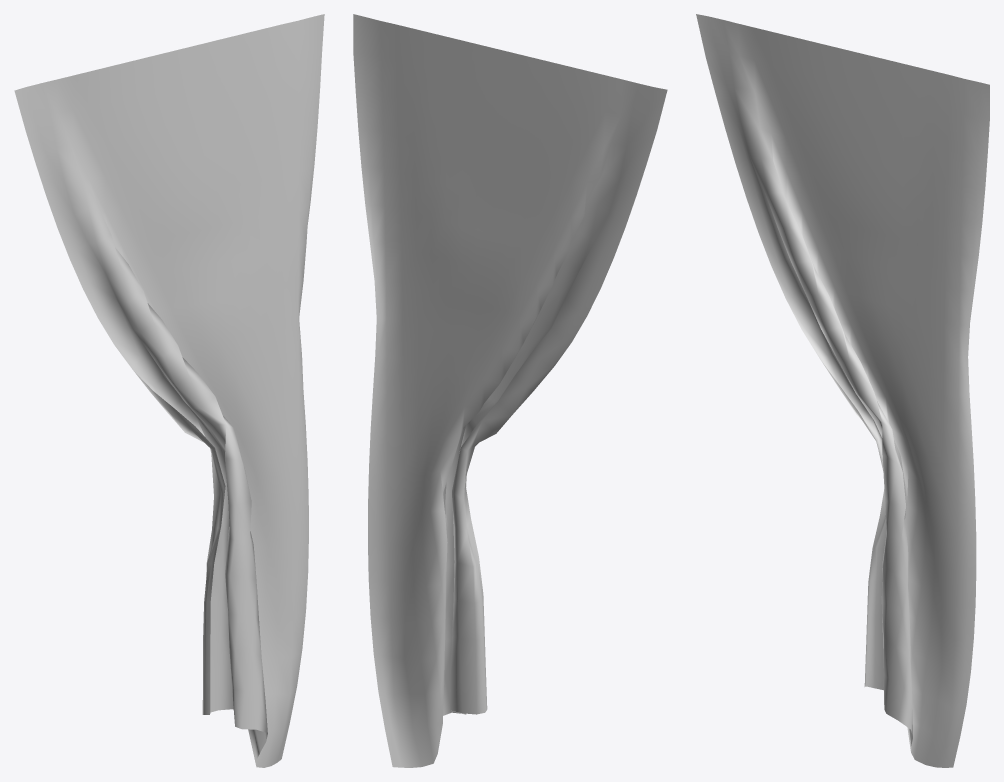
The picture shows the model from 3 angles, left to right: view 1: azimuth 30°, elevation 25°; view 2: azimuth 150°, elevation 25°; view 3: azimuth 330°, elevation 25°; orthographic projection. The views are drawn at different scales.
Visible parts, largest first — view 1: CurtainRightWhite; view 2: CurtainRightWhite; view 3: CurtainRightWhite.
Boxes of the visible parts, left/top/right/bottom form: CurtainRightWhite: left=14, top=14, right=324, bottom=767; CurtainRightWhite: left=353, top=14, right=667, bottom=767; CurtainRightWhite: left=696, top=14, right=989, bottom=767.
Bounding box in the file's own units: 0.874 × 1.98 × 0.0844.
Materials: 1 (1 with a texture image).
